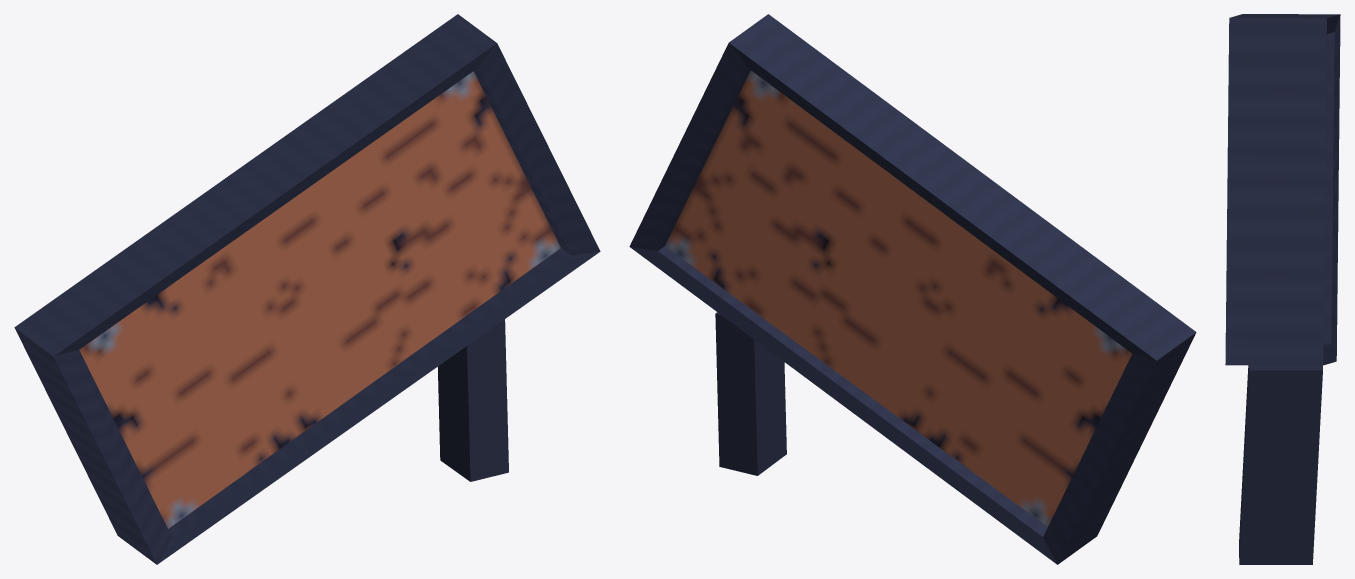
File: PlacaQuebrada.fbx
3 views of the same model, side by side, from view 1: azimuth 30°, elevation 25°; view 2: azimuth 150°, elevation 25°; view 3: azimuth 270°, elevation 25° (orthographic). The views are drawn at different scales.
Parts seen in each view (by area): view 1: Placa; view 2: Placa; view 3: Placa.
Part boxes in pixels (x1,y1,x2,y2): Placa: (14, 14, 600, 564); Placa: (629, 14, 1196, 564); Placa: (1225, 14, 1340, 564).
Size of the model in its own units: 218 by 32.63 by 171.
